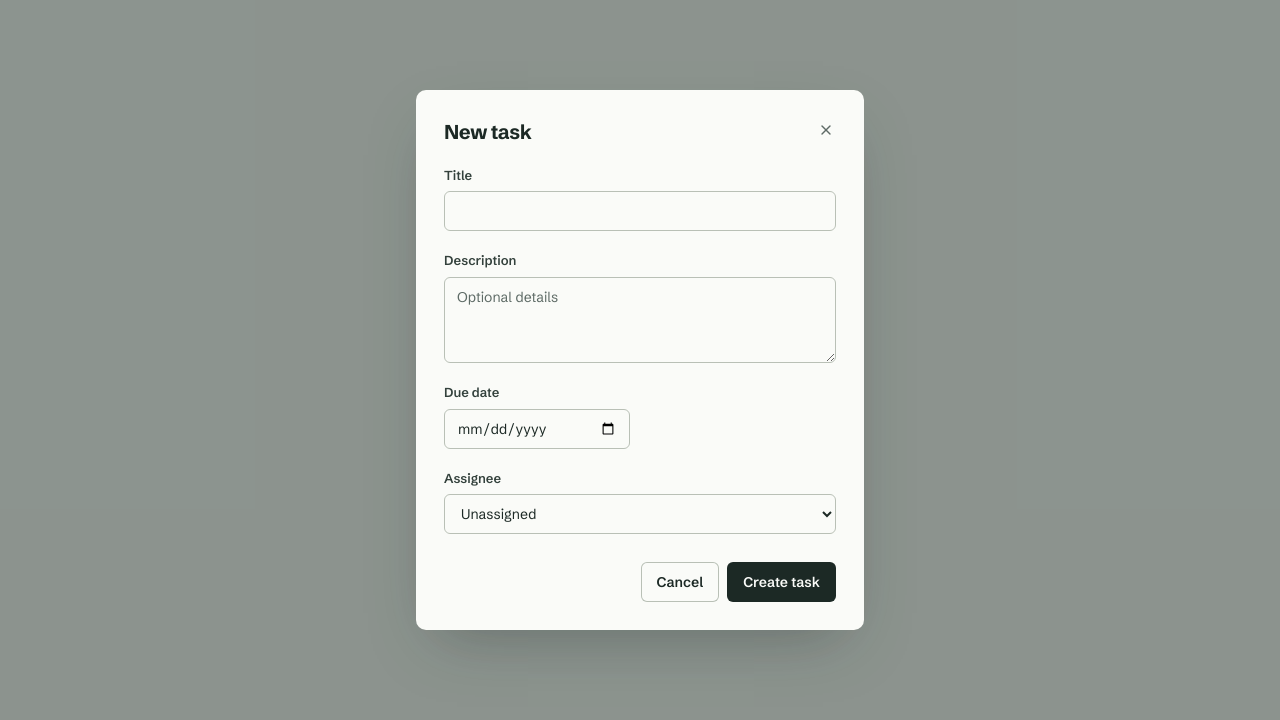
TaskFormModal: creating › keeps the dialog open and shows the API error when saving fails
This screenshot has width=1280, height=720.
Type "Write release notes" into the field labelled "Title". click: [640, 211]
box: left=444, top=191, right=836, bottom=231
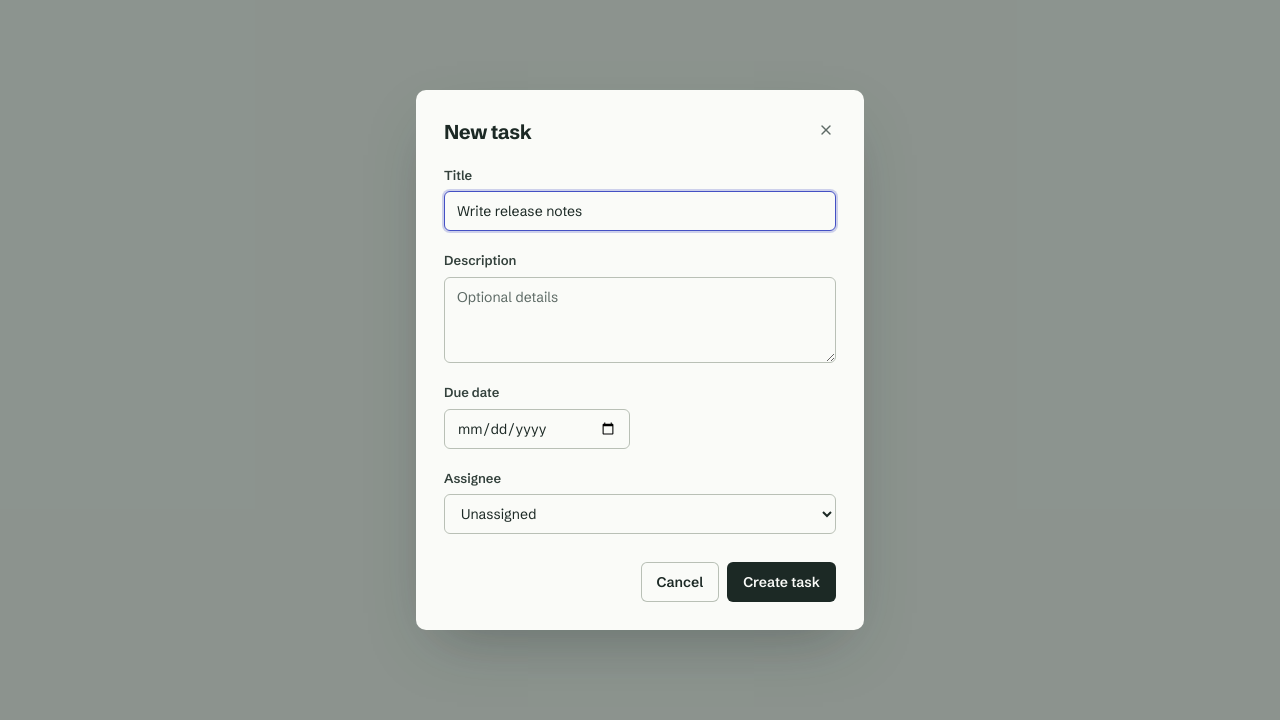
Click the button "Create task". click: [782, 582]
box: left=727, top=562, right=836, bottom=602
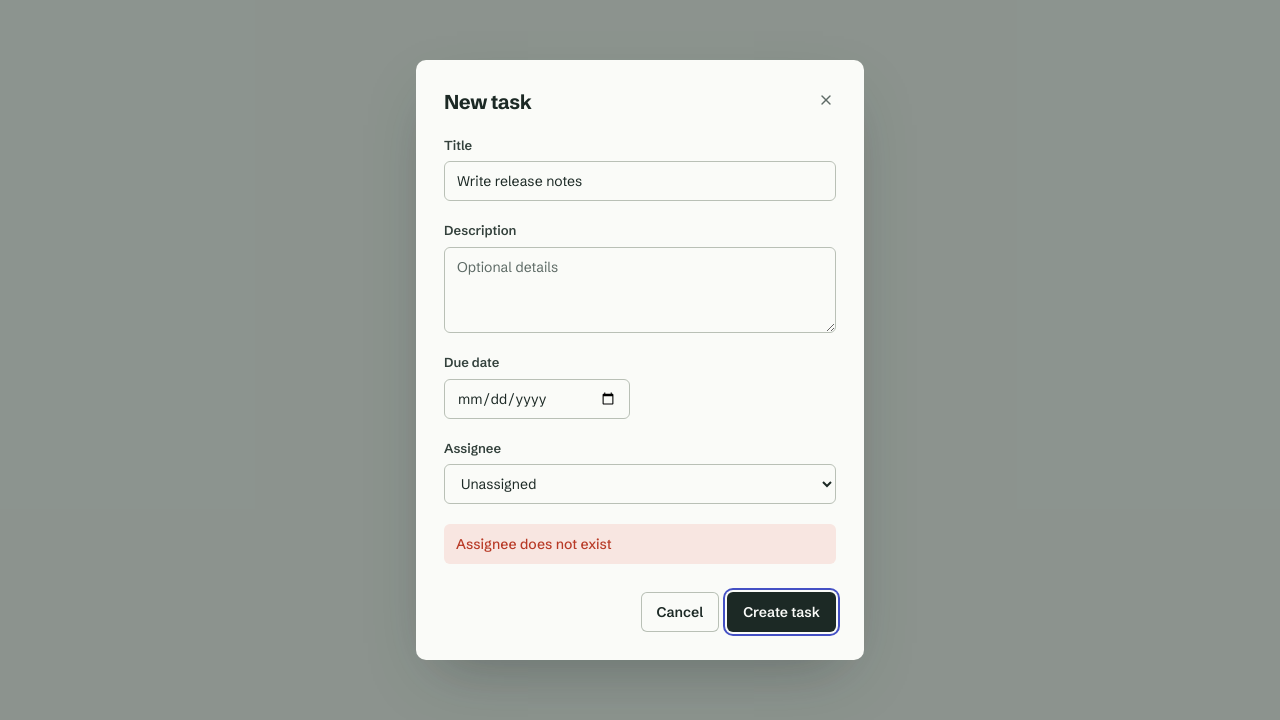
Expected: the message reads "Assignee does not exist", left=456, top=535, right=612, bottom=553
